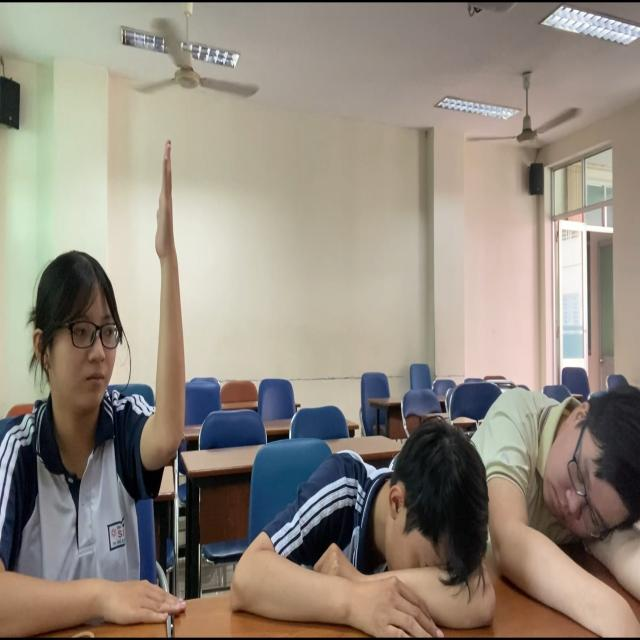raise_hand: (3, 122, 215, 640)
sleep: (228, 412, 516, 640), (435, 367, 640, 640)
